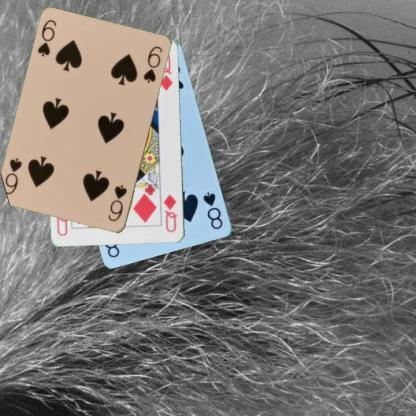6s: (34, 18, 58, 58), (106, 182, 128, 223)
8s: (200, 190, 224, 232)
Qd: (160, 192, 178, 234)
